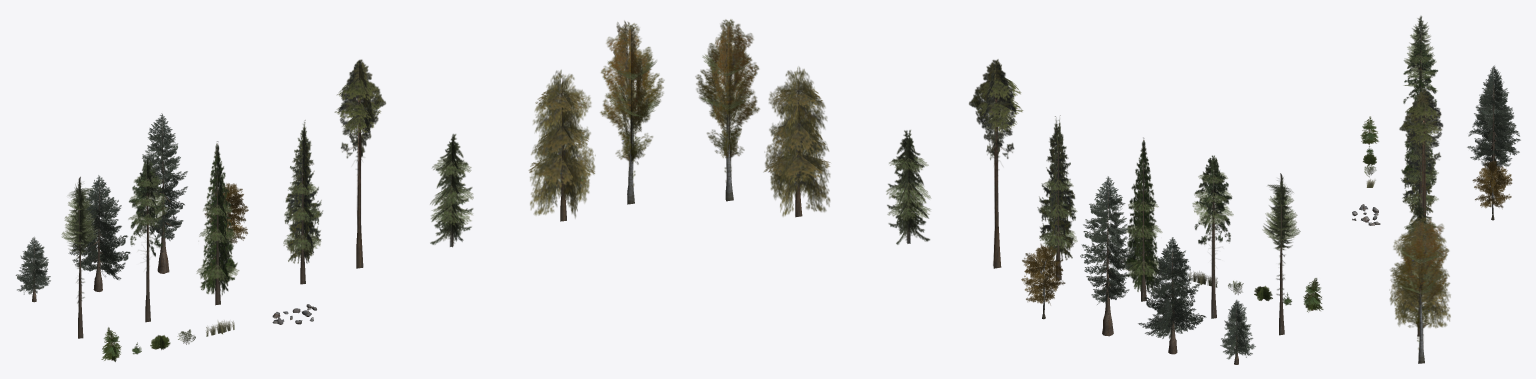
File: forest-trees.glb
3 renders of one model, left to right at view 1: azimuth 30°, elevation 25°; view 2: azimuth 150°, elevation 25°; view 3: azimuth 270°, elevation 25°, orthographic. The views are drawn at different scales.
Visible parts, largest first — view 1: Background_Tree_Atlas.004, Background_Tree_Atlas.001, Background_Tree_Atlas, Background_Tree_Atlas.005, Background_Tree_Atlas.003, Tree_Branches_01.002, Background_Tree_Atlas.002, Tree_Branches_01, Background_Tree_Atlas.007, Background_Tree_Atlas.006, Tree_Branches_01.001, Tree_Branches_02; view 2: Background_Tree_Atlas.004, Background_Tree_Atlas.001, Tree_Branches_01, Background_Tree_Atlas.005, Tree_Branches_01.002, Background_Tree_Atlas, Background_Tree_Atlas.003, Background_Tree_Atlas.002, Background_Tree_Atlas.007, Background_Tree_Atlas.006, Tree_Branches_02, Tree_Branches_01.001 (+1 smaller); view 3: Background_Tree_Atlas.001, Background_Tree_Atlas.004, Tree_Branches_01, Background_Tree_Atlas.005, Background_Tree_Atlas.003, Tree_Branches_01.002, Tree_Branches_02, Background_Tree_Atlas.007, Background_Tree_Atlas.006, Background_Tree_Atlas, Background_Tree_Atlas.002, Background_Tree_Atlas.009 (+1 smaller).
Part boxes in pixels (x1,y1,x2,y2): Background_Tree_Atlas.004: [528, 70, 595, 221]; Background_Tree_Atlas.001: [600, 20, 664, 204]; Background_Tree_Atlas: [196, 141, 239, 305]; Background_Tree_Atlas.005: [334, 59, 385, 268]; Background_Tree_Atlas.003: [283, 120, 322, 284]; Tree_Branches_01.002: [68, 175, 130, 279]; Background_Tree_Atlas.002: [430, 134, 473, 247]; Tree_Branches_01: [139, 113, 187, 240]; Background_Tree_Atlas.007: [128, 159, 168, 322]; Background_Tree_Atlas.006: [61, 176, 98, 338]; Tree_Branches_01.001: [15, 237, 50, 294]; Tree_Branches_02: [204, 183, 248, 243]; Background_Tree_Atlas.004: [763, 67, 830, 217]; Background_Tree_Atlas.001: [695, 19, 759, 201]; Tree_Branches_01: [1080, 176, 1135, 304]; Background_Tree_Atlas.005: [969, 59, 1023, 268]; Tree_Branches_01.002: [1138, 237, 1206, 339]; Background_Tree_Atlas: [1123, 137, 1162, 301]; Background_Tree_Atlas.003: [1037, 115, 1077, 280]; Background_Tree_Atlas.002: [886, 130, 930, 244]; Background_Tree_Atlas.007: [1192, 155, 1233, 318]; Background_Tree_Atlas.006: [1262, 173, 1300, 335]; Tree_Branches_02: [1021, 243, 1065, 304]; Tree_Branches_01.001: [1220, 300, 1255, 359]; Background_Tree_Atlas.001: [1390, 217, 1449, 363]; Background_Tree_Atlas.004: [1389, 214, 1450, 336]; Tree_Branches_01: [1476, 65, 1512, 167]; Background_Tree_Atlas.005: [1399, 88, 1443, 217]; Background_Tree_Atlas.003: [1400, 117, 1438, 215]; Tree_Branches_01.002: [1467, 81, 1520, 161]; Tree_Branches_02: [1472, 160, 1512, 208]; Background_Tree_Atlas.007: [1403, 40, 1437, 113]; Background_Tree_Atlas.006: [1404, 16, 1436, 80]; Background_Tree_Atlas: [1401, 69, 1438, 191]; Background_Tree_Atlas.002: [1401, 201, 1436, 265]; Background_Tree_Atlas.009: [1360, 116, 1378, 144].
Bounding box in the file's own units: 101 × 33.75 × 30.38.
Materials: 6 (6 with a texture image).
